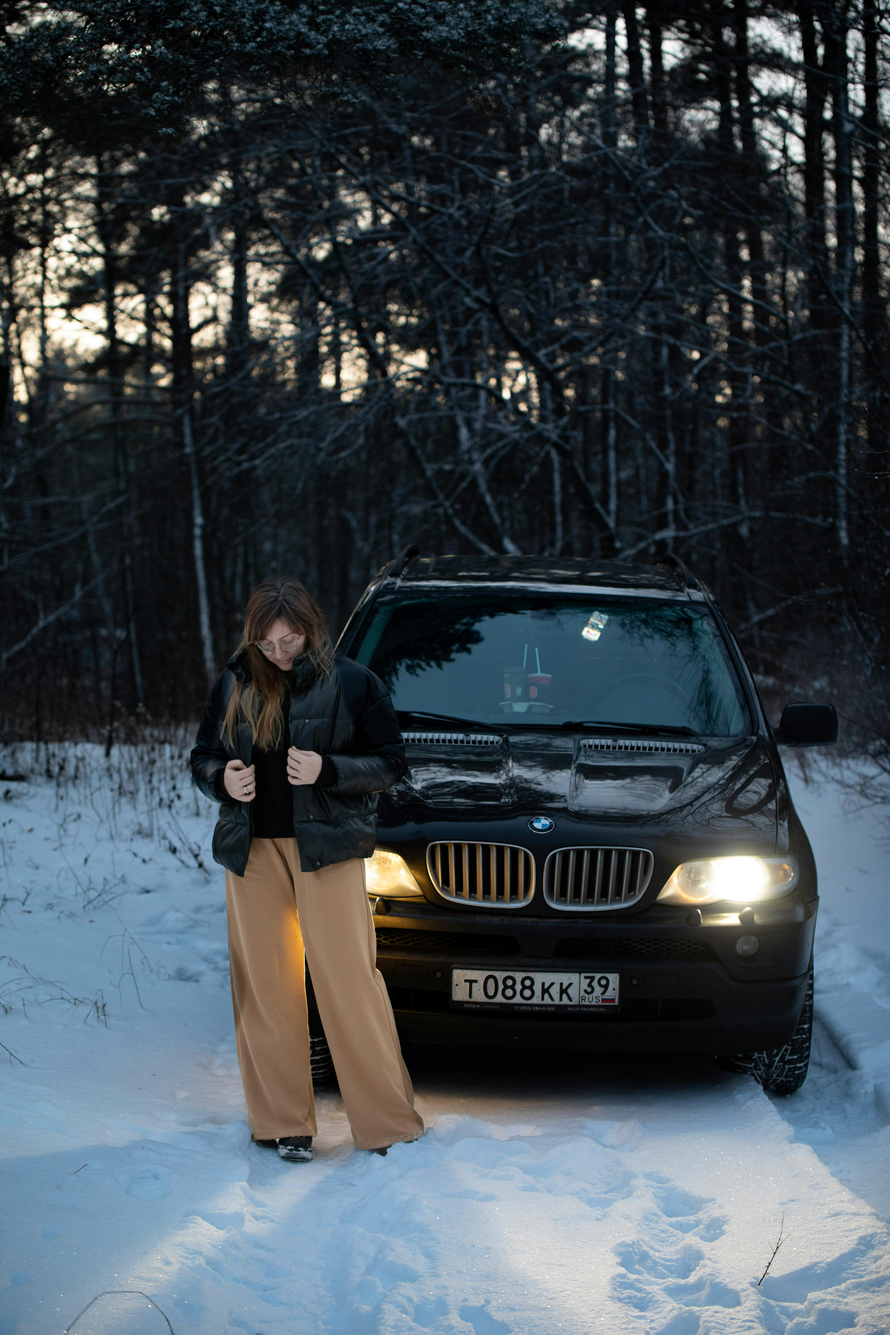other: (288, 556, 821, 1113)
